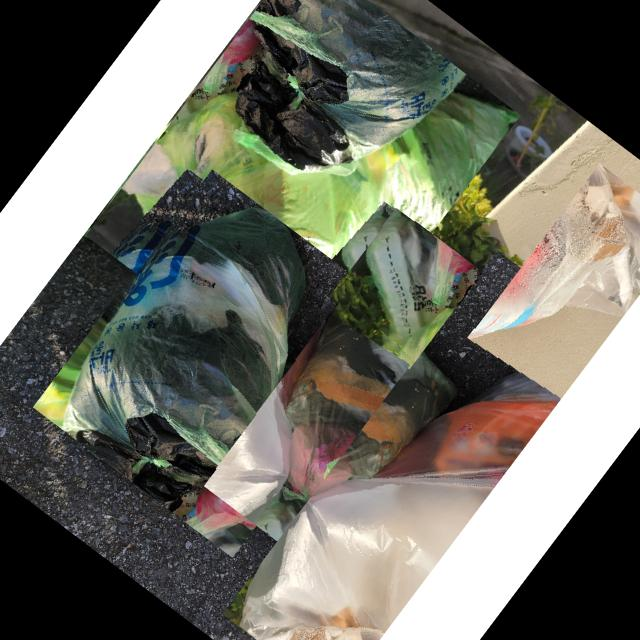general_trashbag: (125, 93, 518, 310), (61, 209, 304, 507), (285, 303, 453, 575), (363, 213, 475, 346)
other_trashbag: (241, 333, 605, 640), (473, 167, 631, 336)
